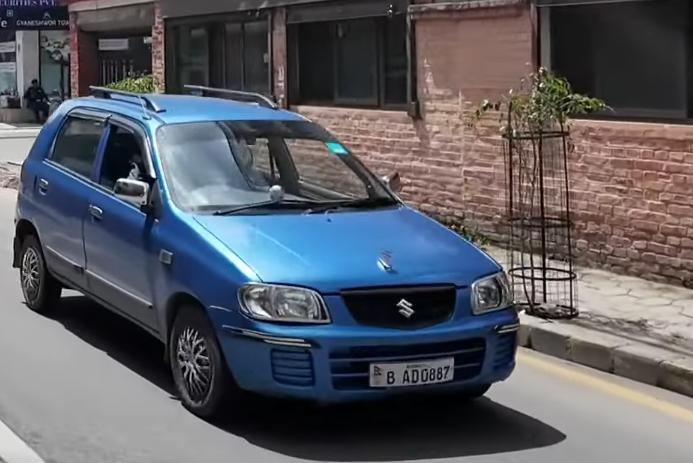car: (15, 88, 545, 401)
